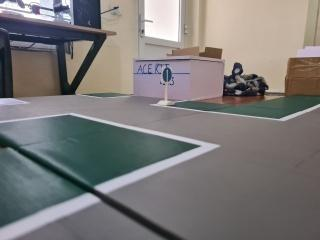straight: (161, 65, 174, 84)
